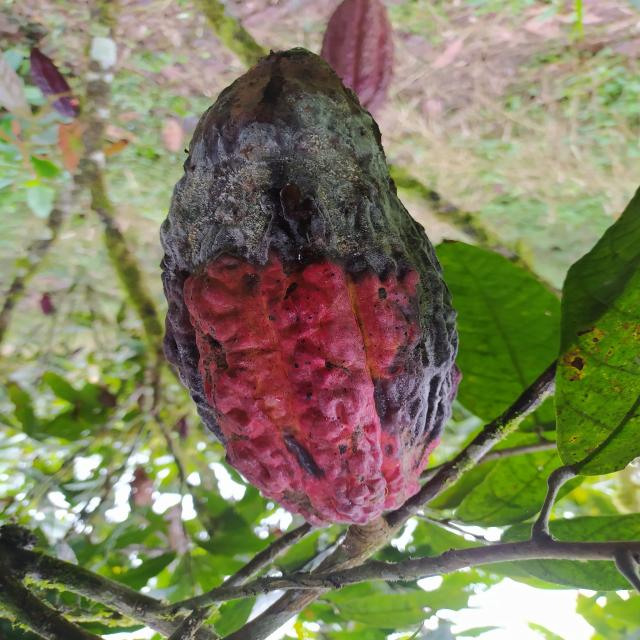Fitoftora: (160, 47, 460, 530)
